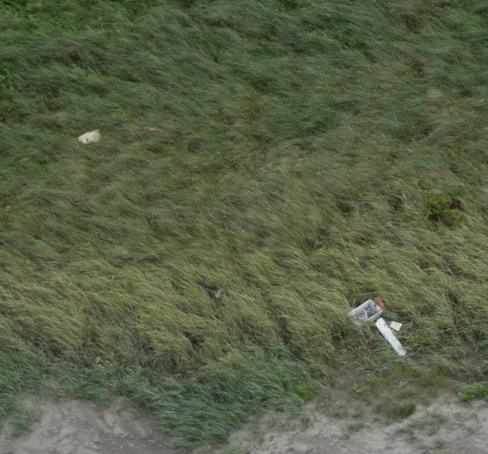white_in_green: (316, 264, 452, 383), (43, 96, 126, 174)
